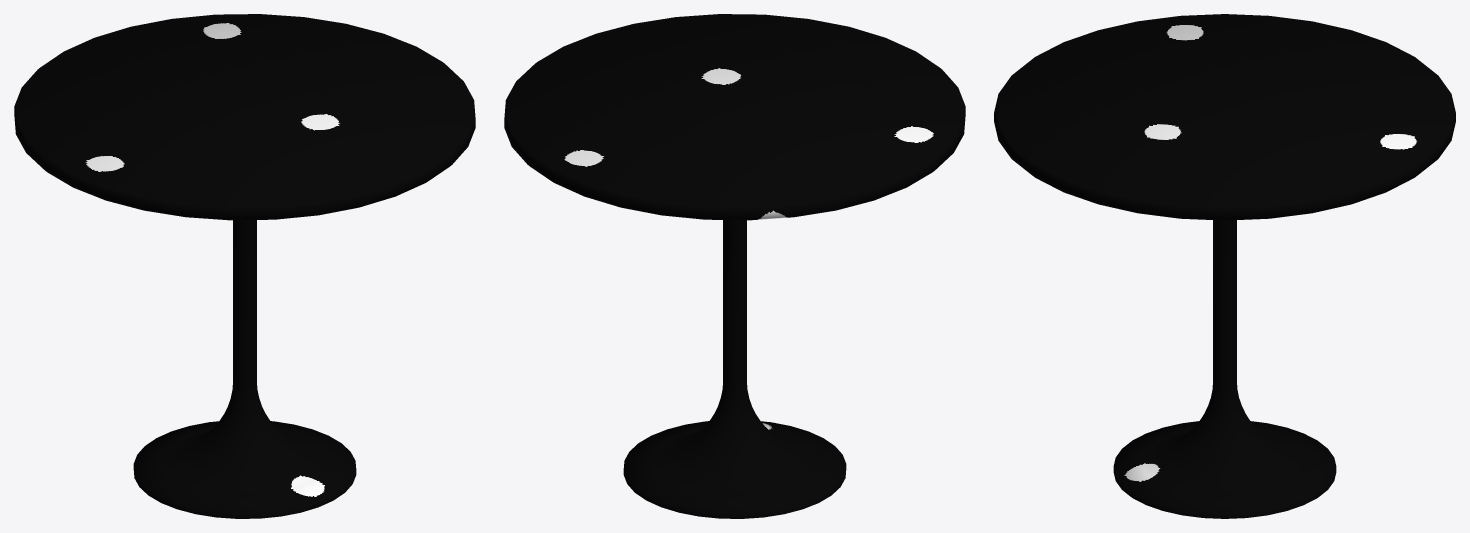
Rendered from SimpleTable.fbx.
The picture shows the model from 3 angles, left to right: view 1: azimuth 30°, elevation 25°; view 2: azimuth 150°, elevation 25°; view 3: azimuth 270°, elevation 25°; orthographic projection.
Visible parts, largest first — view 1: SimpleTable; view 2: SimpleTable; view 3: SimpleTable.
Boxes of the visible parts, bbox=[...] form: SimpleTable: bbox=[14, 14, 475, 518]; SimpleTable: bbox=[504, 14, 965, 518]; SimpleTable: bbox=[994, 14, 1455, 518].
Bounding box in the file's own units: 1.5 × 1.5 × 1.29.
